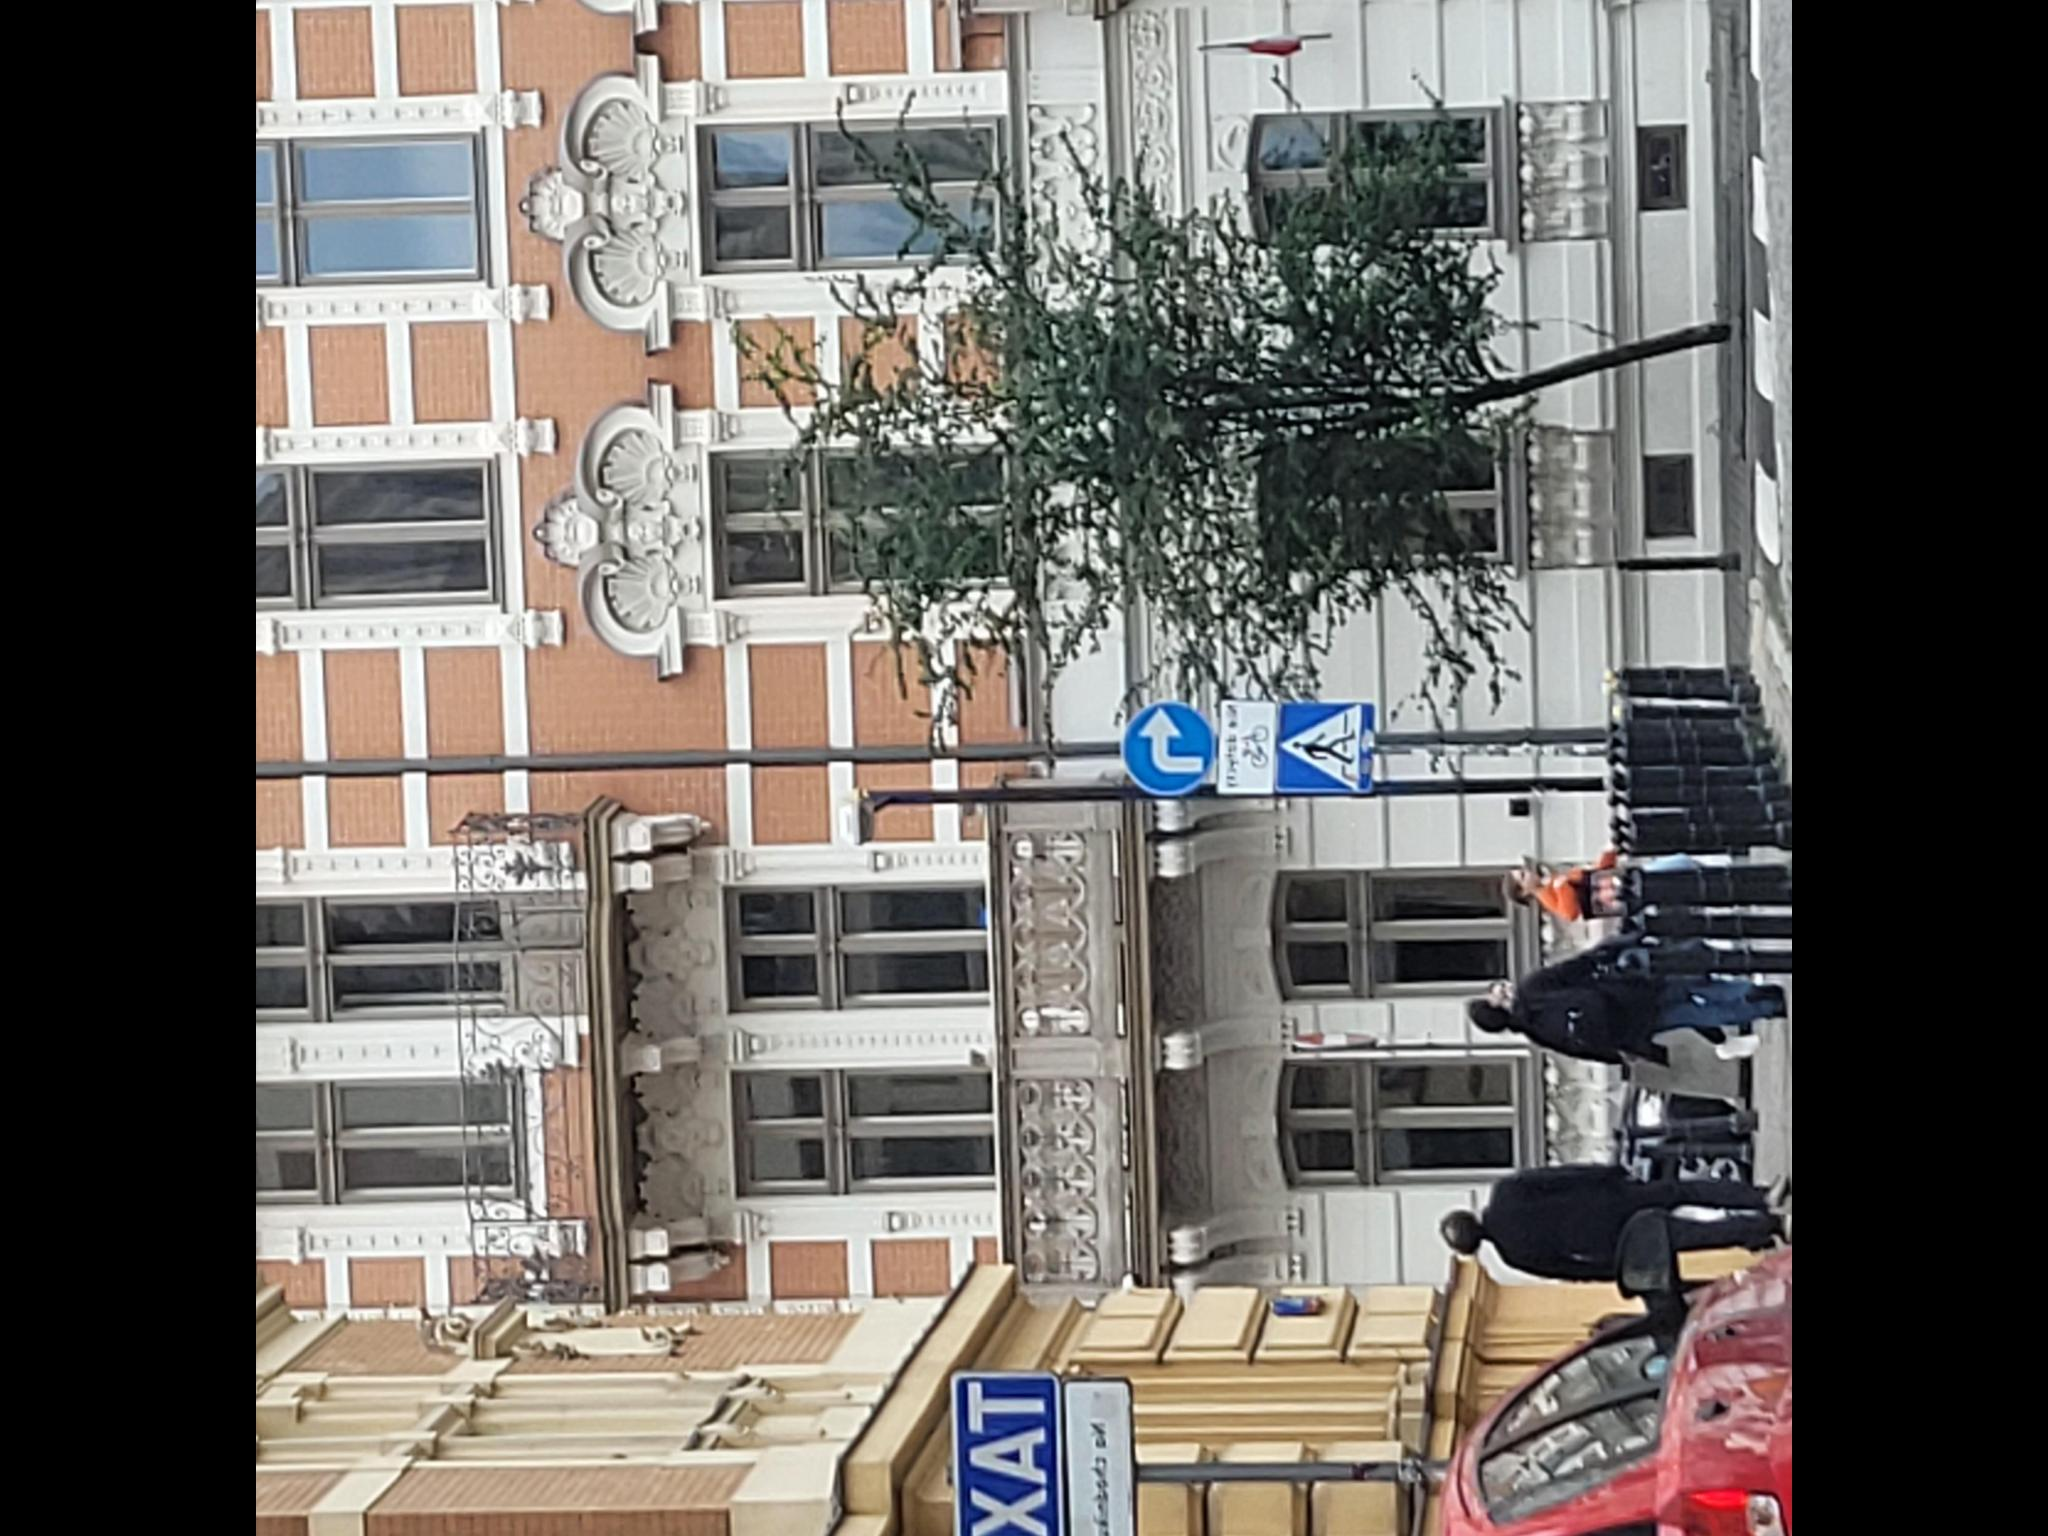information: (951, 1375, 1064, 1536), (1276, 702, 1371, 792)
mandatory: (1124, 702, 1214, 794)
other: (1066, 1379, 1132, 1536), (1219, 697, 1274, 792)
